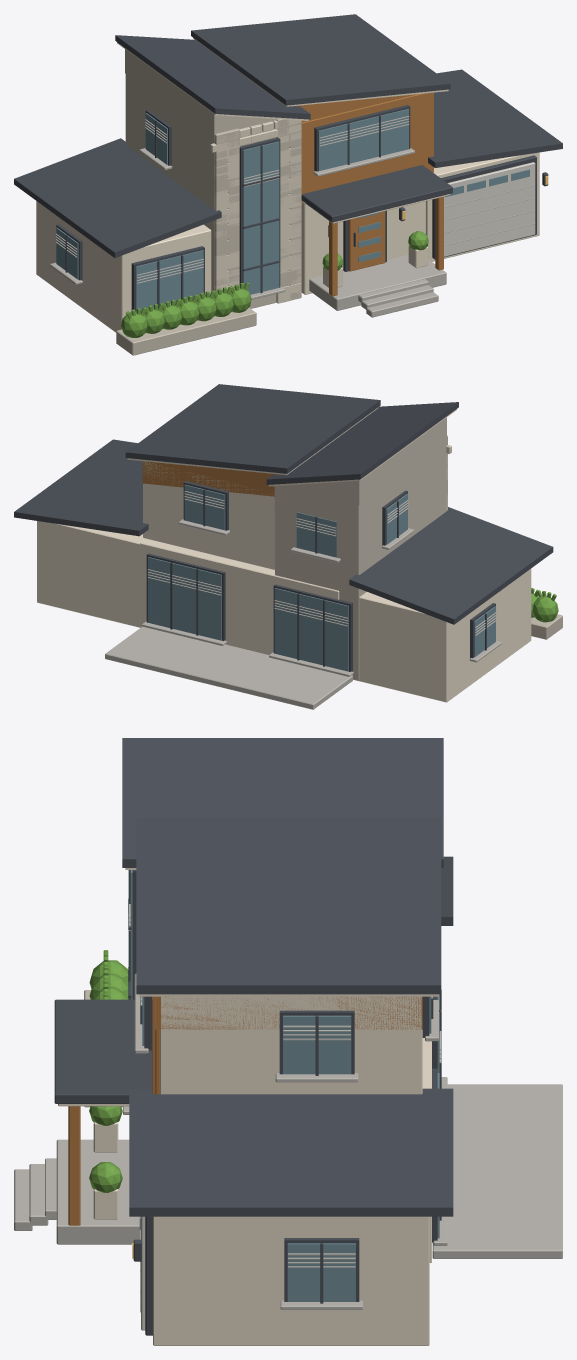
The model's file is medium_house_02.fbx.
3 renders of one model, top to bottom at view 1: azimuth 30°, elevation 25°; view 2: azimuth 150°, elevation 25°; view 3: azimuth 270°, elevation 25°, orthographic. The views are drawn at different scales.
Visible parts, largest first — view 1: MH02_LOD0_MH02_Charcoal, MH02_LOD0_MH02_Cream, MH02_LOD0_MH02_Limestone, MH02_LOD0_MH02_Glass, MH02_LOD0_MH02_Concrete, MH02_LOD0_MH02_Timber, MH02_LOD2_MH02_Glass, MH02_LOD0_MH02_Garage, MH02_LOD1_MH02_LimestoneLight, MH02_LOD0_MH02_Leaf, MH02_LOD1_MH02_Timber, MH02_LOD0_MH02_LimestoneLight (+2 smaller); view 2: MH02_LOD0_MH02_Charcoal, MH02_LOD0_MH02_Cream, MH02_LOD0_MH02_Limestone, MH02_LOD0_MH02_Concrete, MH02_LOD0_MH02_Glass, MH02_LOD2_MH02_Glass, MH02_LOD0_MH02_Timber, MH02_LOD2_MH02_Charcoal, MH02_LOD0_MH02_Leaf; view 3: MH02_LOD0_MH02_Charcoal, MH02_LOD0_MH02_Cream, MH02_LOD0_MH02_Concrete, MH02_LOD0_MH02_Glass, MH02_LOD0_MH02_Timber, MH02_LOD2_MH02_Glass, MH02_LOD0_MH02_Leaf, MH02_LOD2_MH02_Charcoal.
Boxes of the visible parts, x1,y1,x2,y2 form: MH02_LOD0_MH02_Charcoal: (14,14,562,310); MH02_LOD0_MH02_Cream: (36,38,539,332); MH02_LOD0_MH02_Limestone: (116,49,301,355); MH02_LOD0_MH02_Glass: (56,109,528,311); MH02_LOD0_MH02_Concrete: (50,116,535,317); MH02_LOD0_MH02_Timber: (294,94,443,296); MH02_LOD2_MH02_Glass: (56,109,529,311); MH02_LOD0_MH02_Garage: (444,162,535,256); MH02_LOD1_MH02_LimestoneLight: (210,129,301,303); MH02_LOD0_MH02_Leaf: (121,231,428,337); MH02_LOD1_MH02_Timber: (301,92,433,204); MH02_LOD0_MH02_LimestoneLight: (214,119,301,302); MH02_LOD0_MH02_Charcoal: (14,384,553,671); MH02_LOD0_MH02_Cream: (37,407,531,702); MH02_LOD0_MH02_Limestone: (274,417,562,680); MH02_LOD0_MH02_Concrete: (105,491,501,709); MH02_LOD0_MH02_Glass: (148,485,495,671); MH02_LOD2_MH02_Glass: (148,484,495,671); MH02_LOD0_MH02_Timber: (142,461,277,496); MH02_LOD2_MH02_Charcoal: (146,481,495,671); MH02_LOD0_MH02_Leaf: (531,588,558,622); MH02_LOD0_MH02_Charcoal: (54,738,453,1335); MH02_LOD0_MH02_Cream: (58,868,438,1345); MH02_LOD0_MH02_Concrete: (14,904,562,1312); MH02_LOD0_MH02_Glass: (131,873,439,1301); MH02_LOD0_MH02_Timber: (68,996,422,1225); MH02_LOD2_MH02_Glass: (130,870,439,1301); MH02_LOD0_MH02_Leaf: (89,950,128,1192); MH02_LOD2_MH02_Charcoal: (132,870,437,1301).
Bounding box in the file's own units: 1770 × 815 × 1170.
